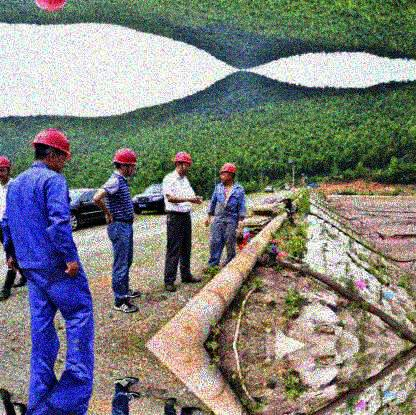helmet: (32, 129, 73, 181), (112, 148, 139, 179), (175, 152, 194, 178), (217, 162, 238, 184), (1, 155, 14, 185)
